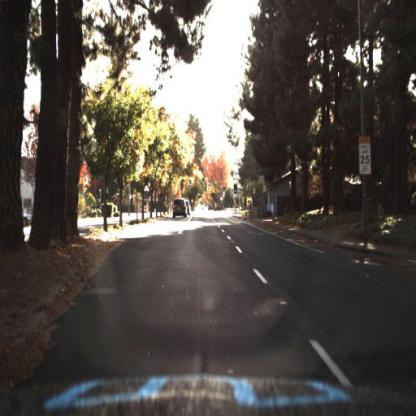car: (171, 196, 187, 217), (22, 206, 33, 225), (188, 200, 191, 218)
trafficLight: (233, 187, 240, 200)
trafficLight-Green: (201, 174, 207, 190), (188, 177, 193, 191)
